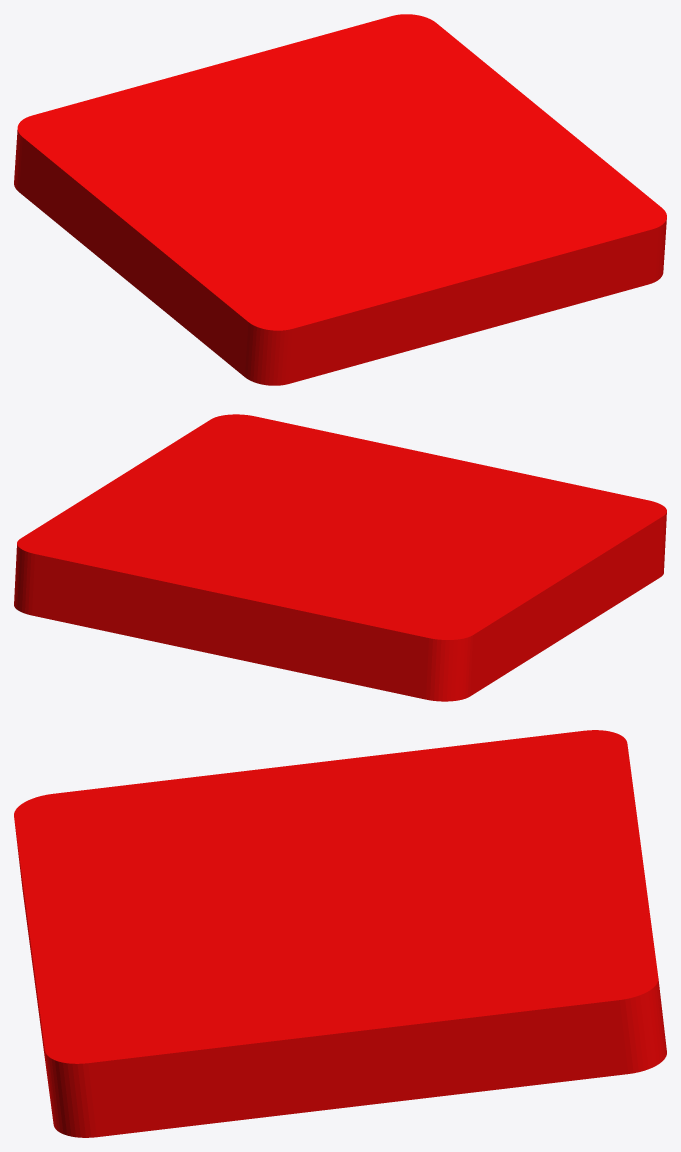
The model's file is original-40.obj.
The picture shows the model from 3 angles, top to bottom: view 1: azimuth 30°, elevation 25°; view 2: azimuth 150°, elevation 25°; view 3: azimuth 270°, elevation 25°; orthographic projection. The views are drawn at different scales.
Visible parts, largest first — view 1: mesh38/mesh38-geometry#mesh38-geometry; view 2: mesh38/mesh38-geometry#mesh38-geometry; view 3: mesh38/mesh38-geometry#mesh38-geometry.
Boxes of the visible parts, left/top/right/bottom form: mesh38/mesh38-geometry#mesh38-geometry: left=14, top=14, right=666, bottom=385; mesh38/mesh38-geometry#mesh38-geometry: left=14, top=414, right=666, bottom=701; mesh38/mesh38-geometry#mesh38-geometry: left=14, top=730, right=666, bottom=1137.
Bounding box in the file's own units: 0.0741 × 0.0162 × 0.0725.
